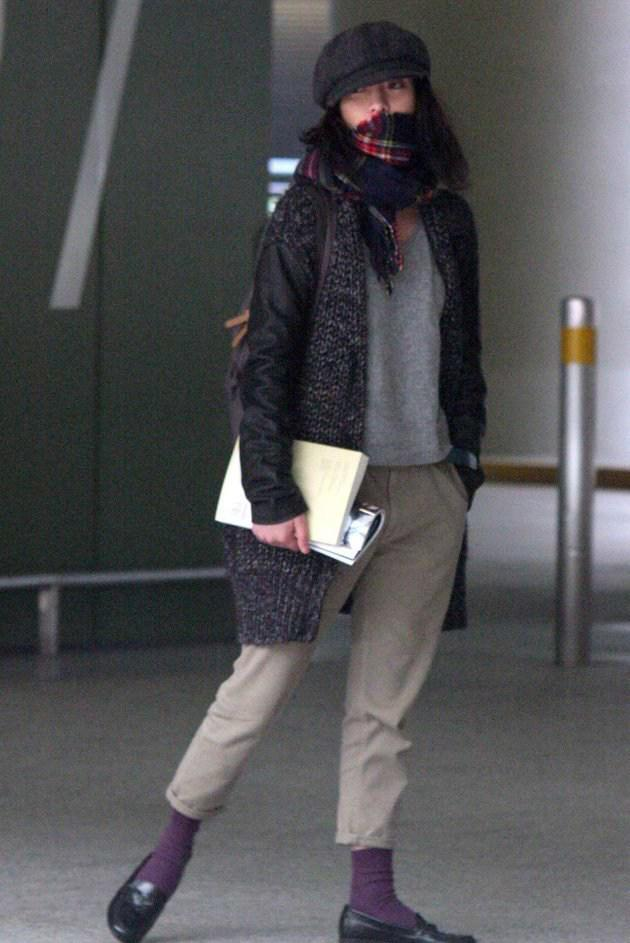WRONG: (332, 63, 426, 159)
